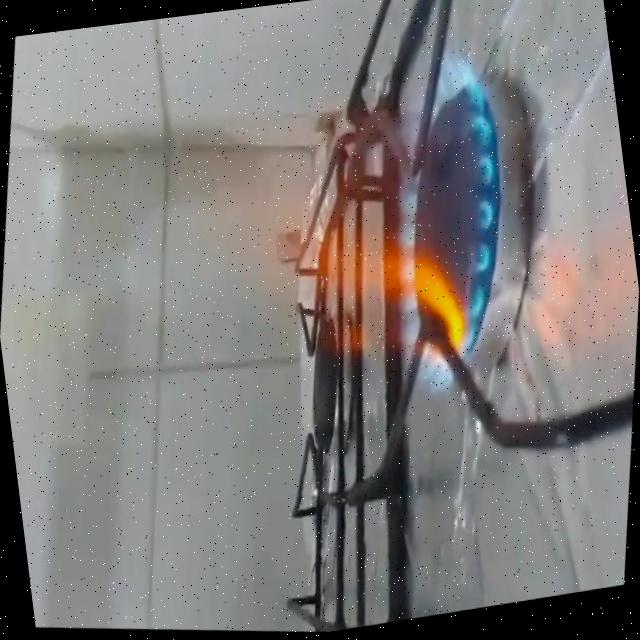fire: (137, 6, 547, 442)
